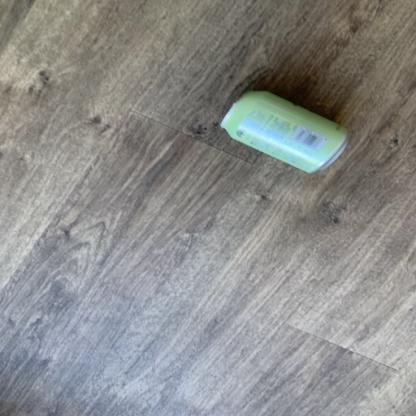trash: (213, 86, 370, 178)
